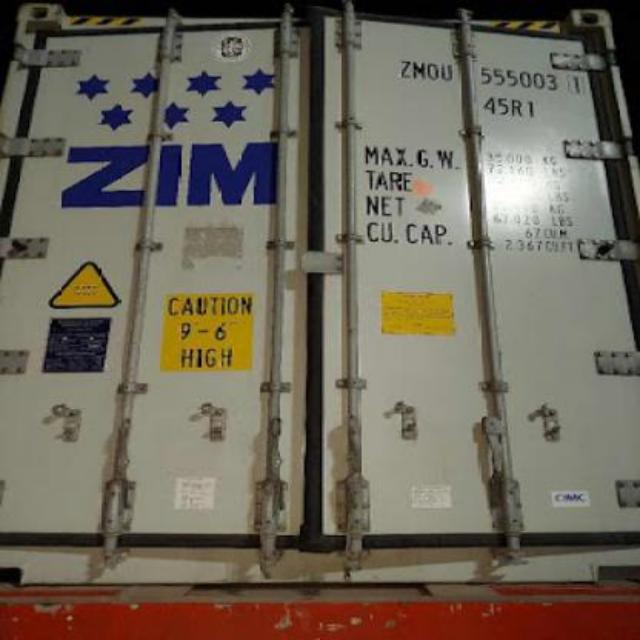0: (534, 70, 546, 92), (520, 70, 534, 86)
1: (570, 74, 586, 95)
3: (548, 70, 560, 94)
5: (478, 64, 494, 88), (494, 64, 510, 86), (508, 64, 520, 88)
M: (412, 59, 428, 80)
O: (426, 62, 439, 82)
U: (441, 62, 454, 84)
Z: (398, 59, 412, 80)
